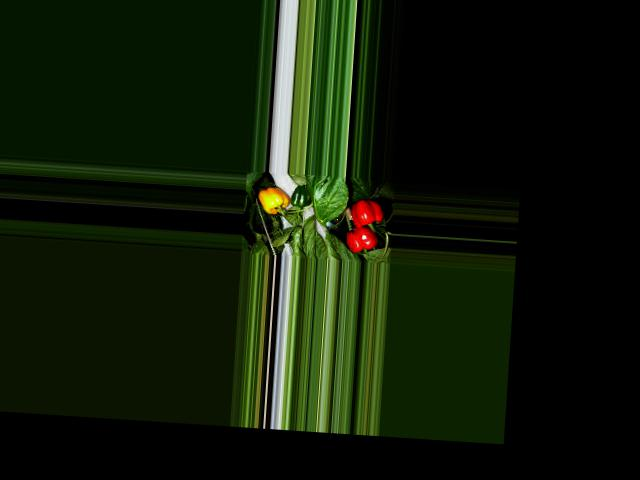bell_pepper: (254, 183, 291, 216)
